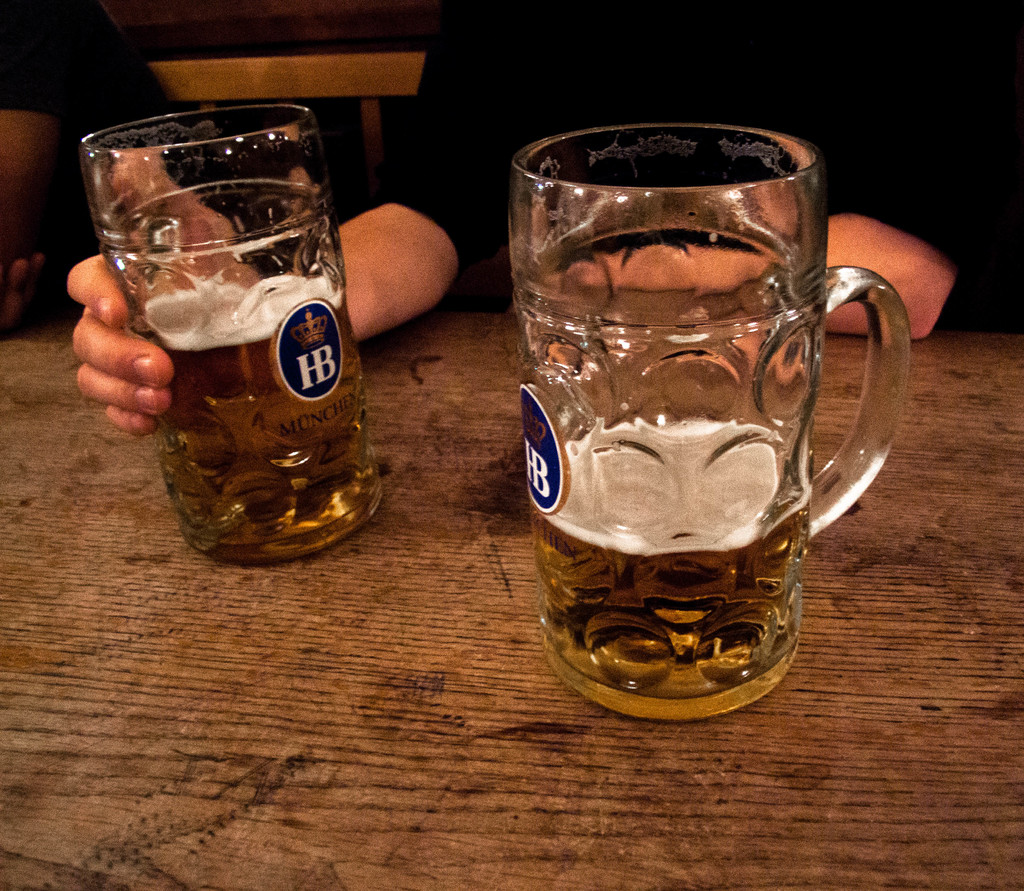Beer: (544, 426, 793, 711), (147, 298, 384, 556)
